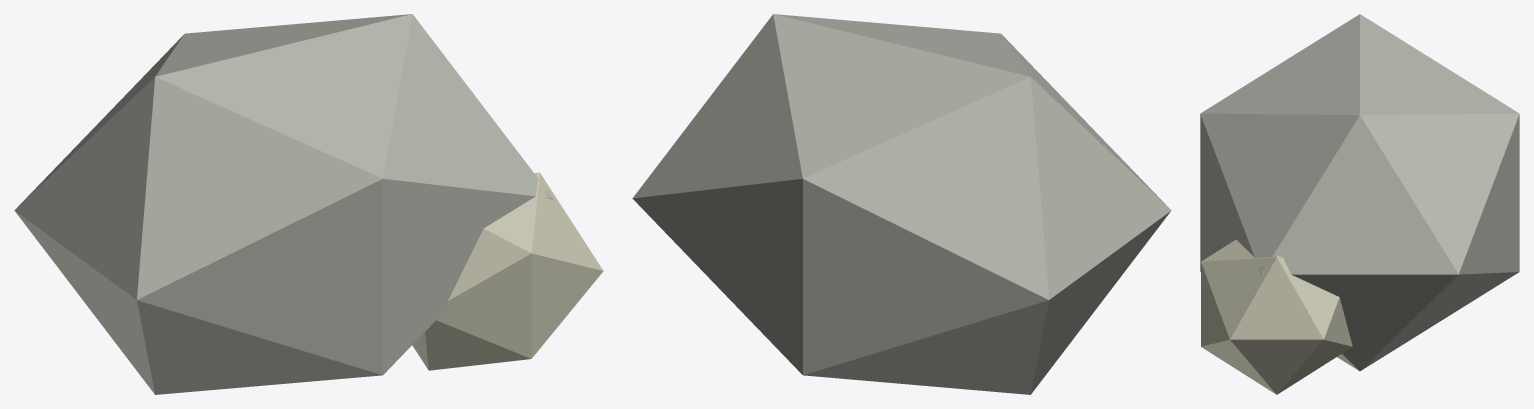
The model's file is ocean-scenery-35.glb.
3 views of the same model, side by side, from view 1: azimuth 30°, elevation 25°; view 2: azimuth 150°, elevation 25°; view 3: azimuth 270°, elevation 25° (orthographic). The views are drawn at different scales.
Parts seen in each view (by area): view 1: Island shoreline stone; view 2: Island shoreline stone; view 3: Island shoreline stone.
Part boxes in pixels (x1,y1,x2,y2): Island shoreline stone: [14, 14, 603, 394]; Island shoreline stone: [632, 14, 1171, 394]; Island shoreline stone: [1200, 14, 1519, 394].
Bounding box in the file's own units: 1.35 × 0.9187 × 1.04.
